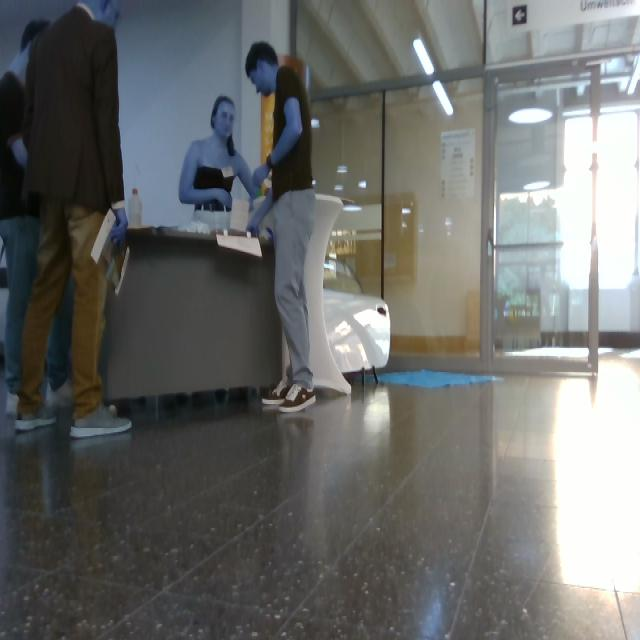desk: (103, 230, 282, 398)
door: (482, 58, 640, 372), (385, 81, 480, 356)
light bulb: (413, 38, 435, 76), (433, 81, 453, 116), (628, 54, 640, 96)
person: (17, 1, 131, 436), (245, 41, 317, 414), (1, 21, 50, 429), (180, 96, 262, 212), (41, 292, 72, 389)
tiled floor: (1, 358, 640, 640)
